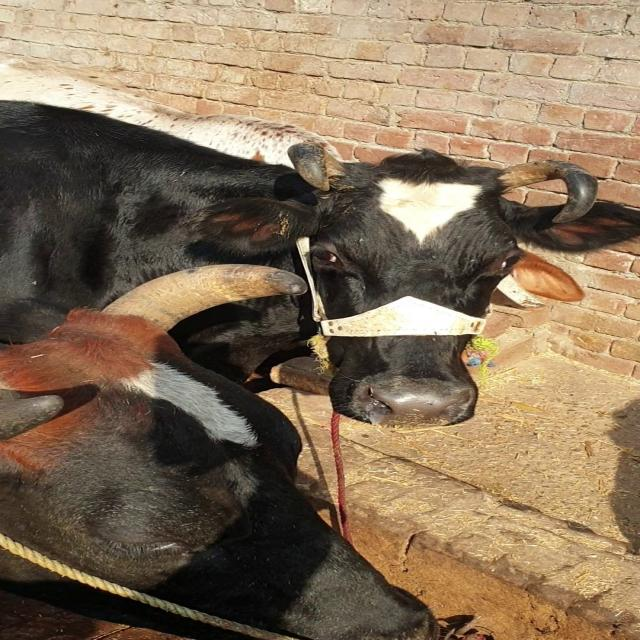cowFace: (64, 316, 468, 640), (310, 132, 568, 428)
